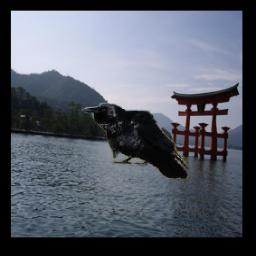Crow: (82, 103, 190, 179)
